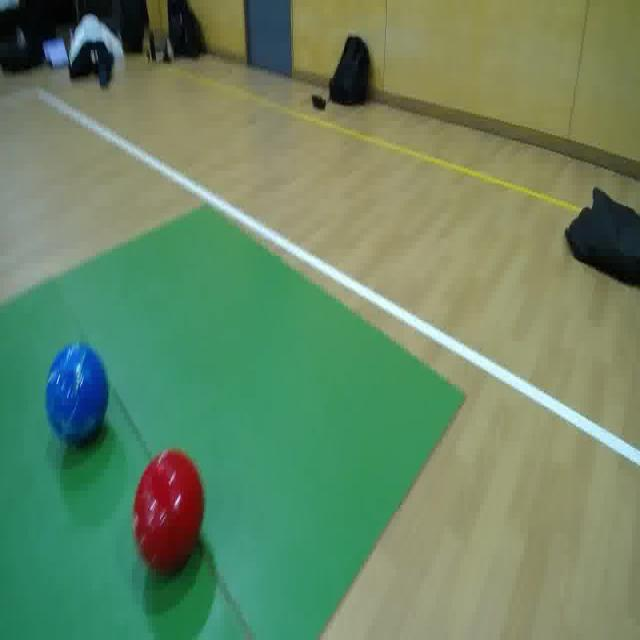blue_ball: (40, 336, 111, 453)
red_ball: (130, 442, 207, 585)
